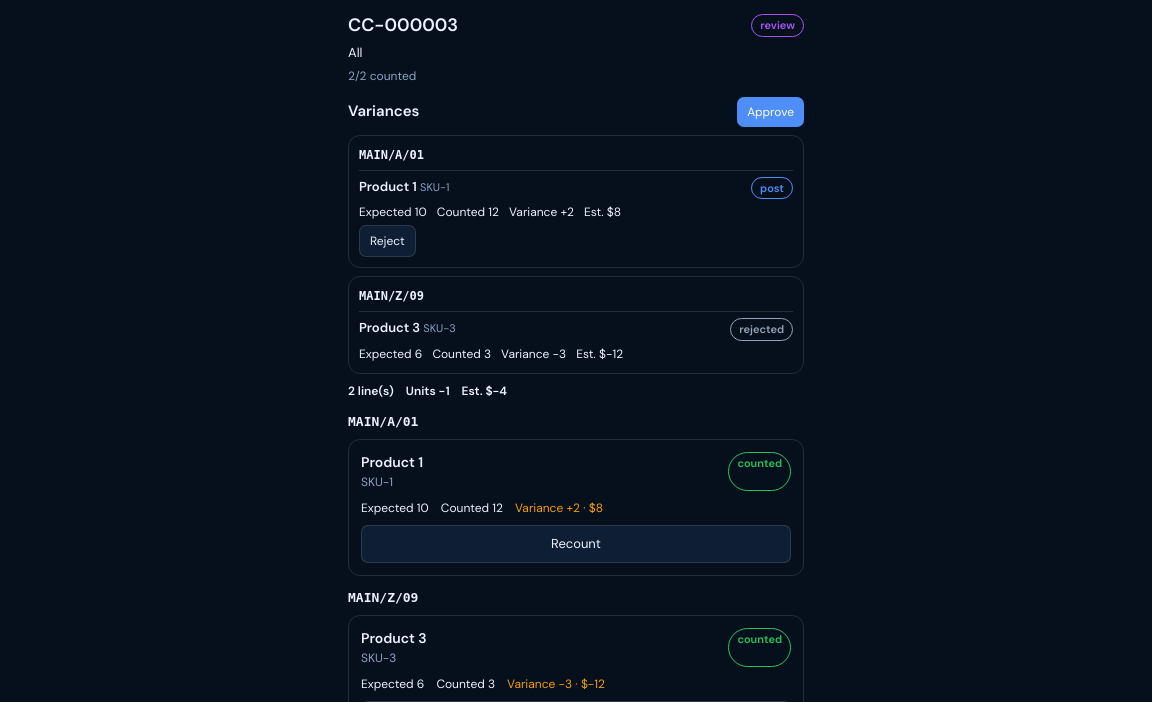
Test: Count review and approval › Approve confirms with the line count and cost note, then shows posted values
This screenshot has width=1152, height=702.
Click the button "Approve": point(771, 112) [737,96,804,126]
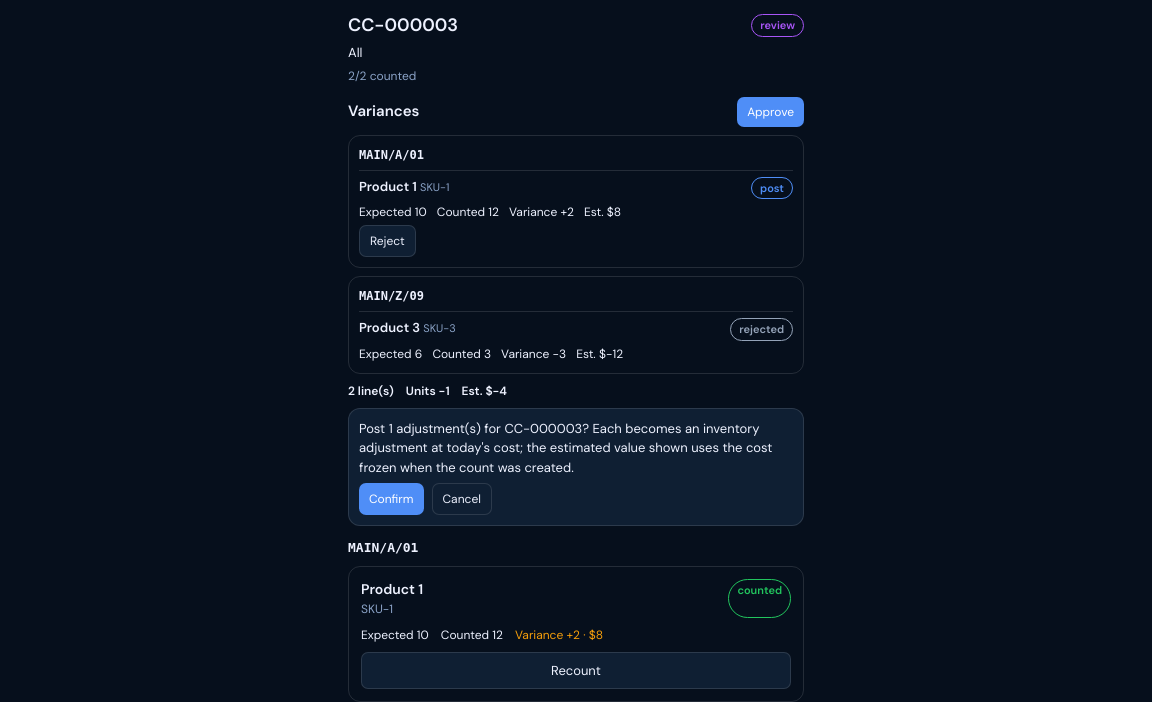
Now the text with test id "approve-text" shows "Post 1 adjustment(s) for CC-000003? Each becomes an inventory adjustment at today's cost; the estimated value shown uses the cost frozen when the count was crea", box [359,420,772,476]
Click the button "Confirm": point(391, 499) [359,483,424,515]
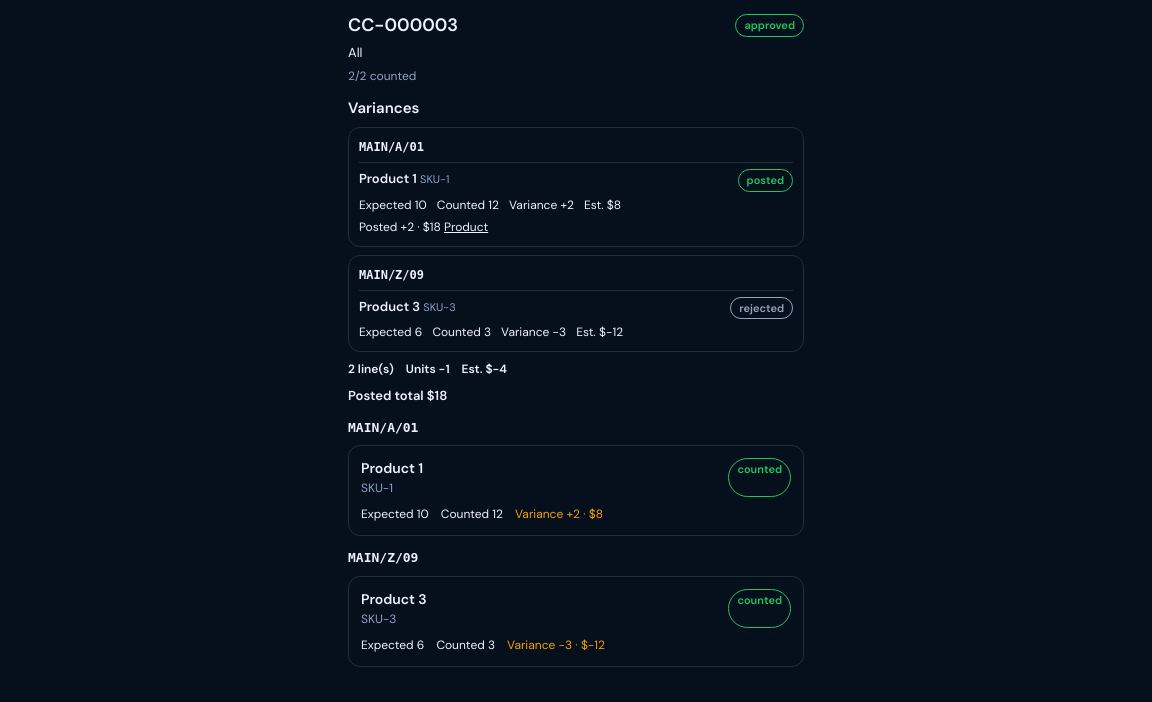
Now the text with test id "count-status" reads "approved", box [744,18,795,32]
Now the element with test id "variance-posted-11" shows "Posted +2 · $18", box [359,218,441,234]
Now the text with test id "posted-total" reads "Posted total $18", box [348,387,447,404]
